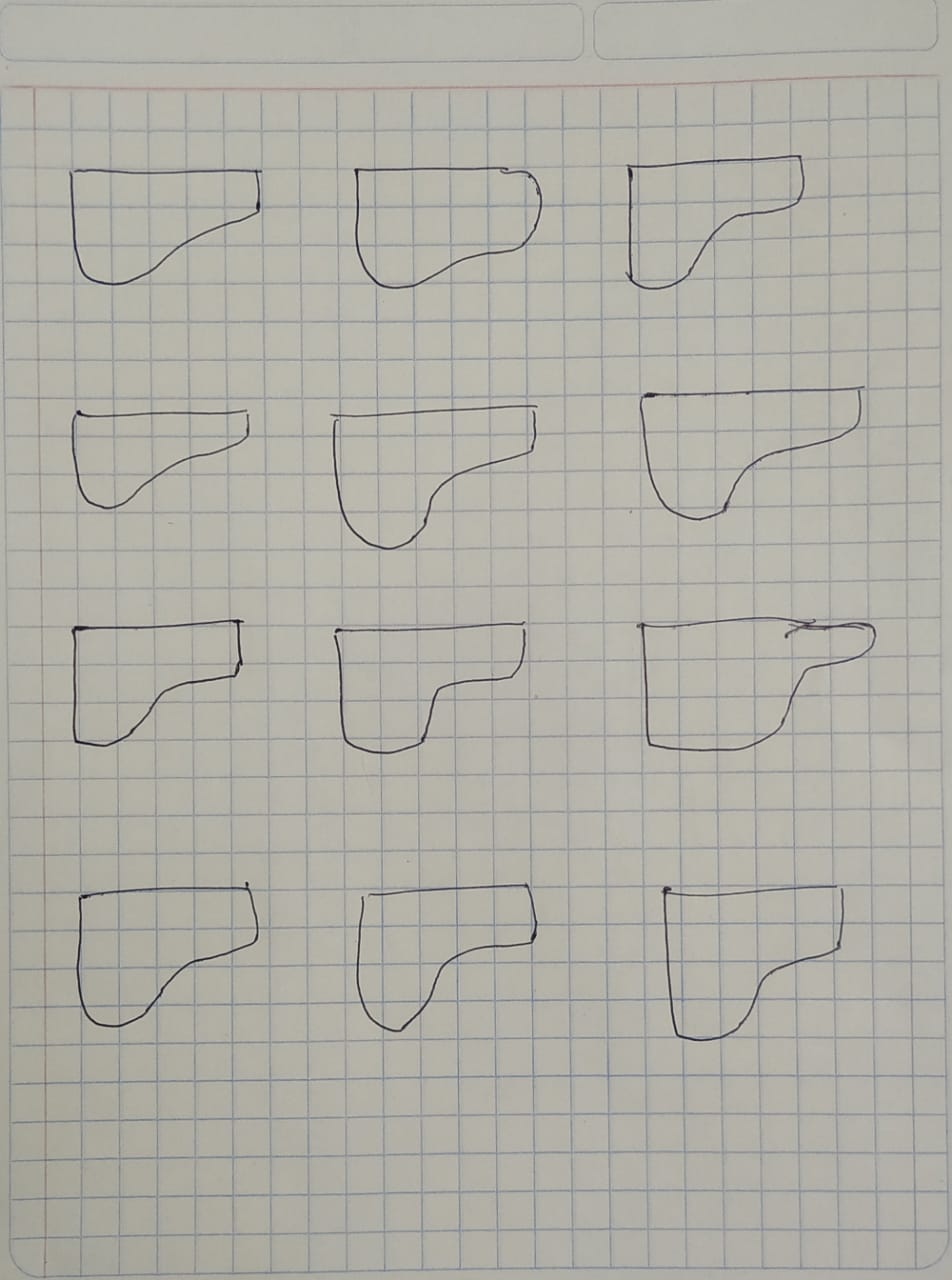print: (625, 370, 879, 552), (625, 600, 889, 771), (642, 864, 860, 1055), (318, 389, 553, 563), (340, 870, 556, 1049), (56, 864, 272, 1042), (318, 607, 544, 770), (613, 139, 818, 307), (343, 150, 556, 305), (57, 600, 258, 764), (57, 150, 274, 300), (57, 387, 264, 534)
